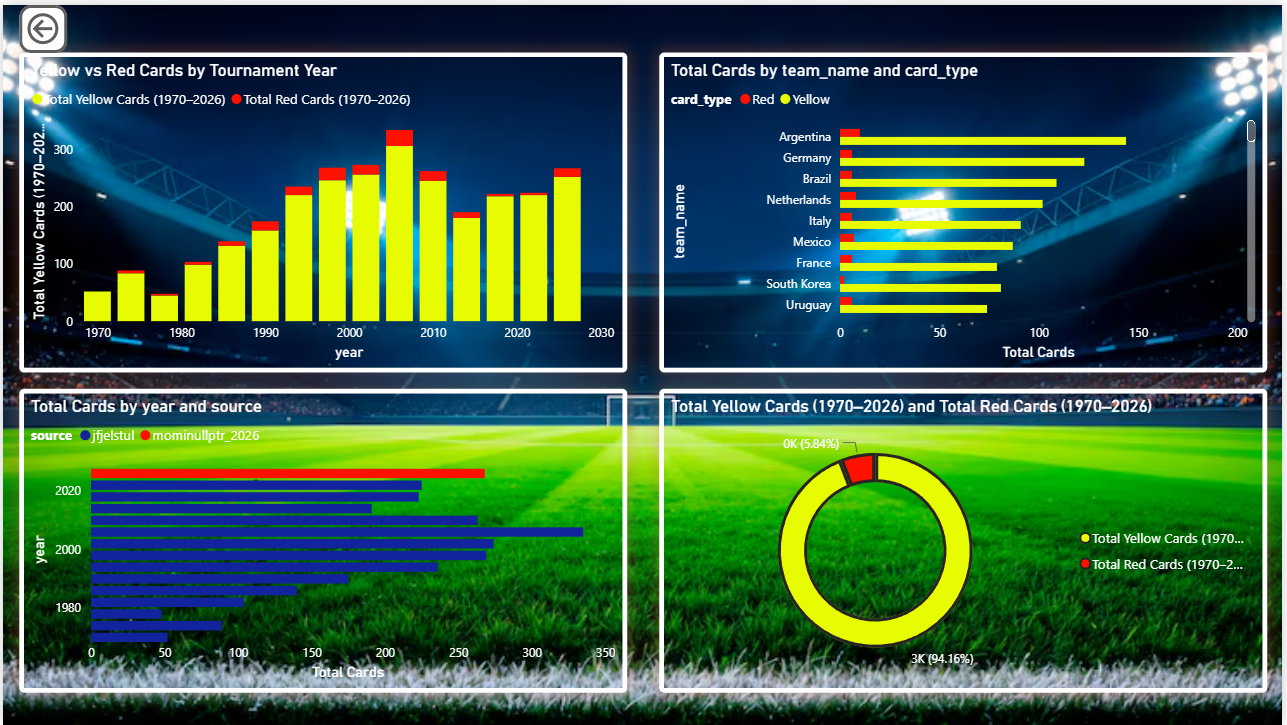

The page's visual inventory and layout, read from the dashboard file:
{"tool":"powerbi","page":{"name":"Discipline (Cards)","canvas":[1280,720],"ordinal":4},"visuals":[{"type":"columnChart","title":"Yellow vs Red Cards by Tournament Year","fields":{"Category":["dim_tournament.year"],"Y":["Measure.Total Yellow Cards (1970–2026)","Measure.Total Red Cards (1970–2026)"]},"box":[16,48,608,320],"z":0},{"type":"clusteredBarChart","fields":{"Category":["dim_team.team_name"],"Series":["fact_bookings.card_type"],"Y":["Measure.Total Cards"]},"box":[656,48,608,320],"z":1000},{"type":"barChart","fields":{"Category":["dim_tournament.year"],"Series":["fact_bookings.source"],"Y":["Measure.Total Cards"]},"box":[16,384,608,304],"z":2000},{"type":"donutChart","fields":{"Y":["Measure.Total Yellow Cards (1970–2026)","Measure.Total Red Cards (1970–2026)"]},"box":[656,384,608,304],"z":3000},{"type":"actionButton","box":[16,0,48,48],"z":3001}]}

Visuals, with their boxes in screenshot pixels (x1, y1, x2, y2), scaled from the page's 1280x720 canvas onto the 1287x725 screenshot:
"Yellow vs Red Cards by Tournament Year" columnChart: box=[16, 48, 627, 371]
clusteredBarChart - dim_team.team_name x fact_bookings.card_type: box=[660, 48, 1271, 371]
barChart - dim_tournament.year x fact_bookings.source: box=[16, 387, 627, 693]
donutChart - Measure.Total Yellow Cards (1970–2026) x Measure.Total Red Cards (1970–2026): box=[660, 387, 1271, 693]
actionButton: box=[16, 0, 64, 48]
